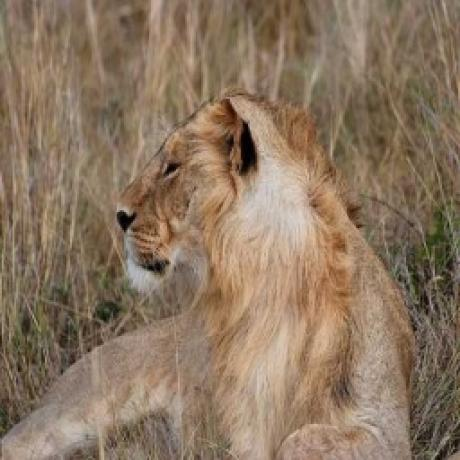Lion: (0, 88, 417, 460)
